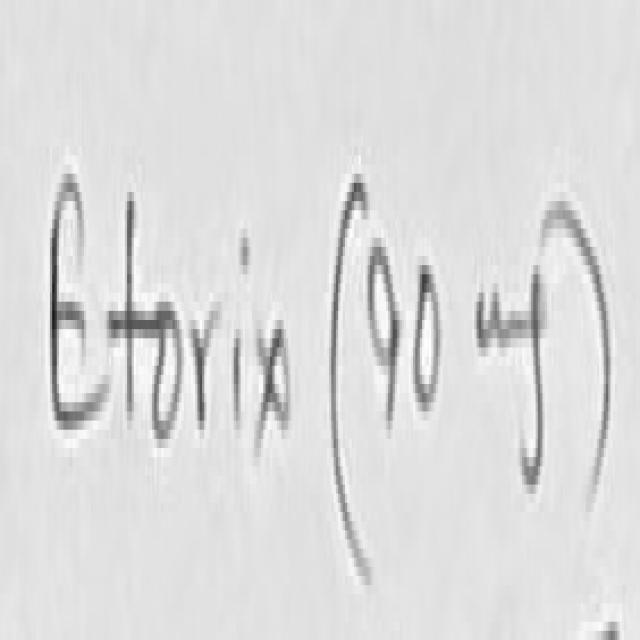0: (414, 274, 440, 407)
9: (367, 249, 396, 439)
E: (52, 174, 109, 425)
g: (522, 265, 545, 489)
i: (234, 329, 241, 425), (241, 229, 247, 270)
m: (472, 271, 525, 355)
o: (152, 302, 182, 434)
r: (198, 319, 216, 443)
t: (109, 192, 159, 432)
x: (256, 320, 290, 441)
